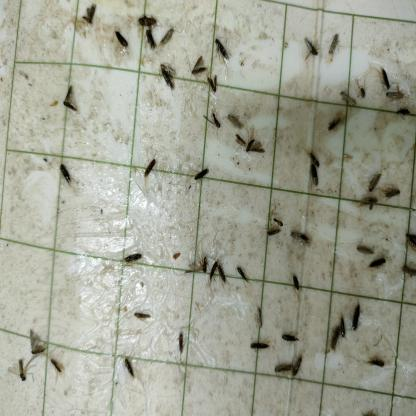prays_oleae: (139, 143, 168, 189), (233, 134, 269, 161), (209, 31, 235, 65), (350, 302, 370, 342), (61, 86, 83, 122), (56, 152, 76, 191), (121, 244, 150, 269), (291, 222, 314, 253), (354, 190, 383, 214), (158, 62, 178, 94), (224, 105, 245, 134), (114, 358, 141, 380), (330, 320, 349, 351), (172, 329, 192, 358), (184, 252, 208, 276), (380, 182, 404, 206), (194, 164, 215, 191), (336, 90, 359, 114), (259, 221, 282, 245), (133, 304, 159, 325), (304, 33, 319, 69), (188, 58, 207, 86), (251, 336, 273, 360), (280, 326, 306, 346), (327, 34, 344, 64), (362, 354, 392, 371), (112, 28, 136, 49), (353, 239, 379, 258), (163, 27, 181, 54), (136, 12, 158, 34), (142, 30, 159, 58), (202, 106, 220, 132), (12, 360, 34, 381), (378, 64, 392, 93), (326, 113, 342, 137), (206, 73, 221, 98), (308, 166, 323, 190), (44, 358, 68, 373), (372, 256, 390, 275), (219, 257, 230, 288), (236, 266, 250, 290), (82, 8, 100, 25), (290, 275, 302, 300), (368, 167, 382, 188), (208, 258, 218, 287), (27, 332, 44, 348), (309, 146, 321, 168), (273, 210, 284, 230), (256, 303, 264, 324)
